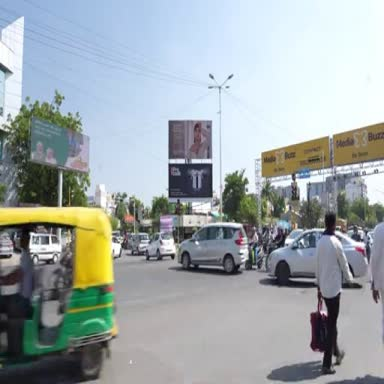Car: (178, 222, 248, 273), (268, 229, 323, 284), (30, 233, 62, 264), (146, 233, 176, 260), (131, 233, 149, 256), (0, 232, 14, 259), (285, 230, 303, 246), (111, 236, 122, 259), (123, 233, 134, 249), (112, 231, 123, 244), (358, 230, 365, 242)
